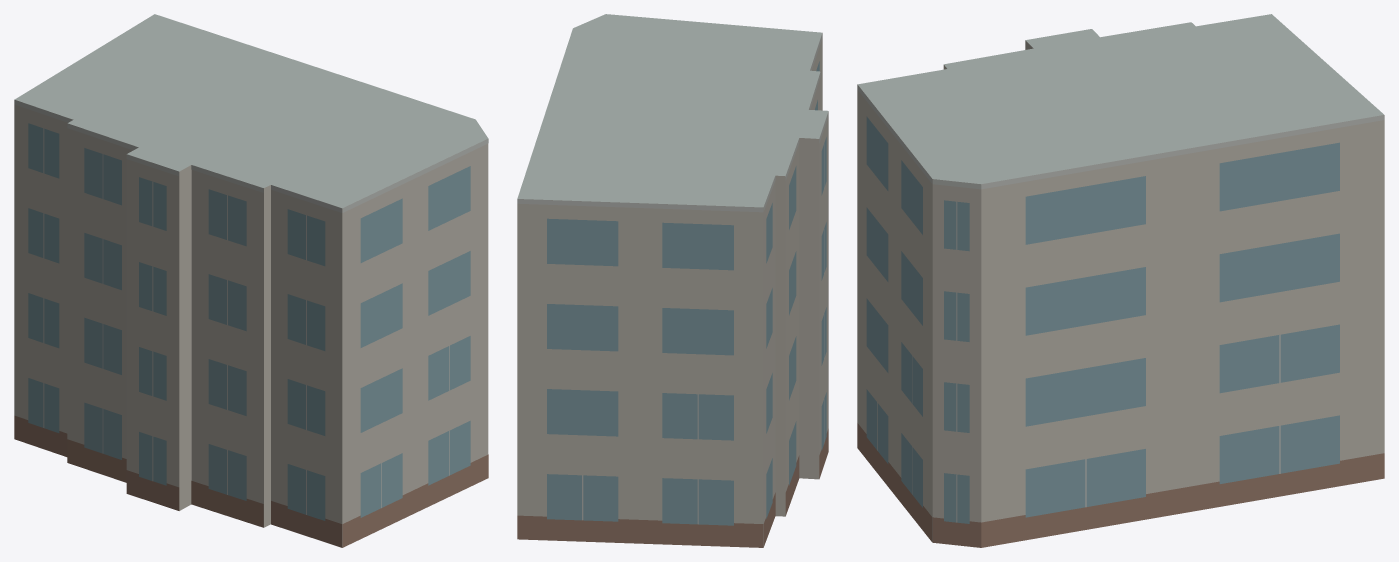
File: survey-upis-32486268.glb
3 views of the same model, side by side, from view 1: azimuth 30°, elevation 25°; view 2: azimuth 150°, elevation 25°; view 3: azimuth 270°, elevation 25° (orthographic). The views are drawn at different scales.
Parts seen in each view (by area): view 1: survey-upis-32486268.tmp; view 2: survey-upis-32486268.tmp; view 3: survey-upis-32486268.tmp.
Part boxes in pixels (x1=…): survey-upis-32486268.tmp: x1=14, y1=14, x2=488, y2=547; survey-upis-32486268.tmp: x1=517, y1=14, x2=828, y2=547; survey-upis-32486268.tmp: x1=857, y1=14, x2=1384, y2=547.
Size of the model in its own units: 17.17 by 17.1 by 22.47.
